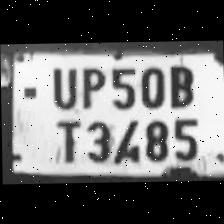0: (136, 62, 166, 107)
3: (80, 116, 110, 163)
4: (110, 114, 140, 164)
5: (103, 60, 136, 110), (169, 112, 200, 162)
8: (140, 114, 170, 162)
B: (163, 60, 196, 106)
P: (76, 62, 106, 111)
T: (46, 115, 82, 165)
U: (44, 61, 77, 108)
